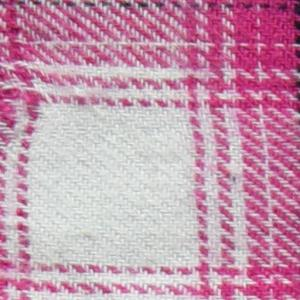Damage: (1, 30, 66, 164)
